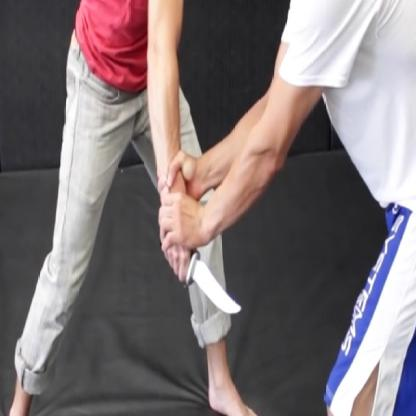knife: (157, 234, 248, 324)
